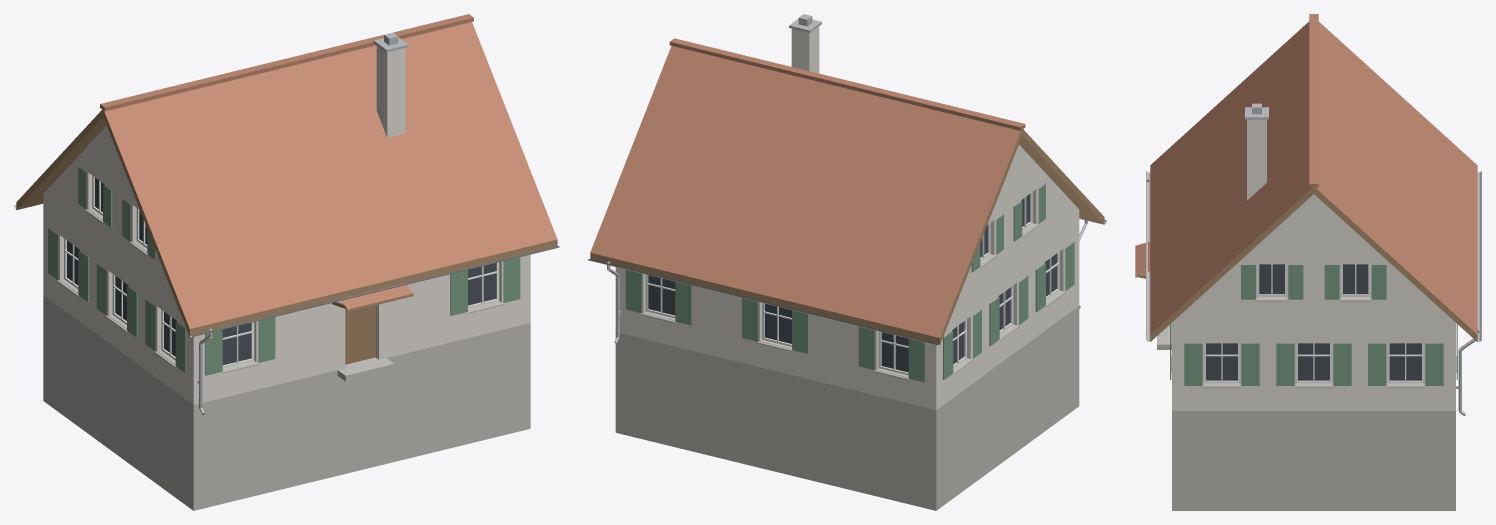
The model's file is house_gable_1_m.glb.
The picture shows the model from 3 angles, left to right: view 1: azimuth 30°, elevation 25°; view 2: azimuth 150°, elevation 25°; view 3: azimuth 270°, elevation 25°; orthographic projection. The views are drawn at different scales.
Parts seen in each view (by area): view 1: house_gable_1_m; view 2: house_gable_1_m; view 3: house_gable_1_m.
Part boxes in pixels (left/top/right/bottom): house_gable_1_m: left=14, top=14, right=559, bottom=510; house_gable_1_m: left=588, top=14, right=1106, bottom=510; house_gable_1_m: left=1135, top=14, right=1481, bottom=510.
Size of the model in its own units: 12.04 by 11.95 by 10.38.
